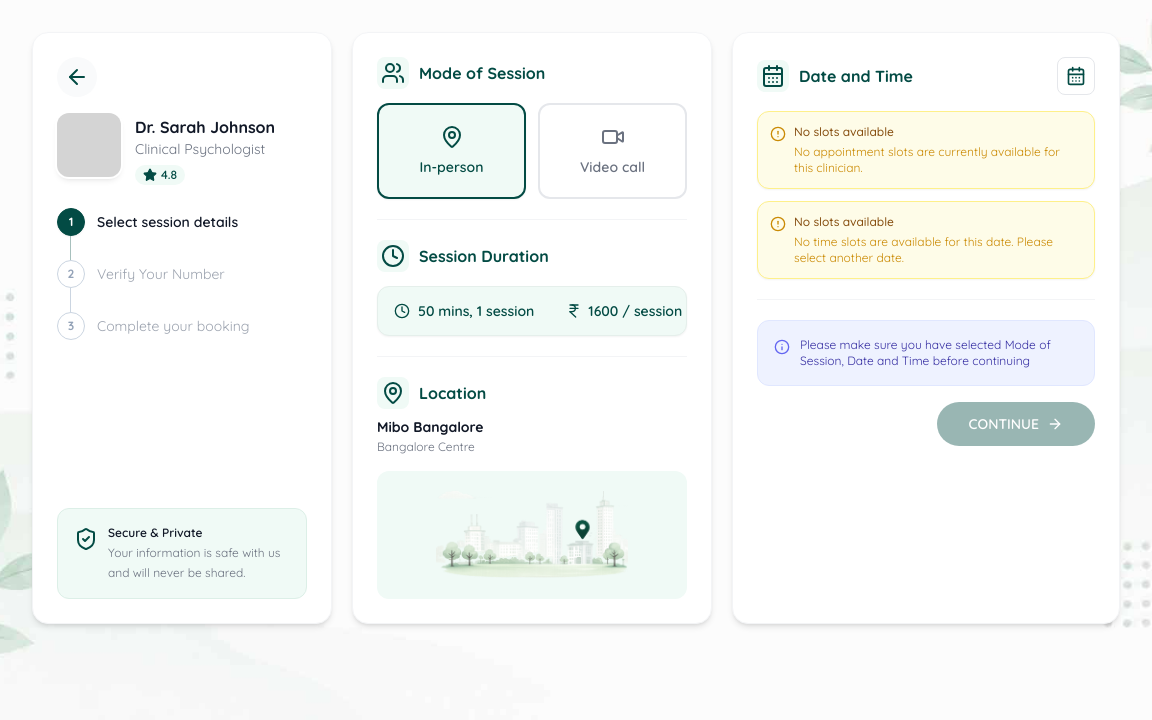
Test: Preservation Property Tests: Non-Calendar Date Selection Behavior › PROPERTY 2.4: Preservation - Closing modal without selecting preserves previously selected date
Expected: the text "Dr. Sarah Johnson" is shown, [135, 115, 275, 139]
// **STEP 1**: Open the calendar modal
Click the button named "Open calendar".
click(1076, 76)  # box [1057, 57, 1095, 95]
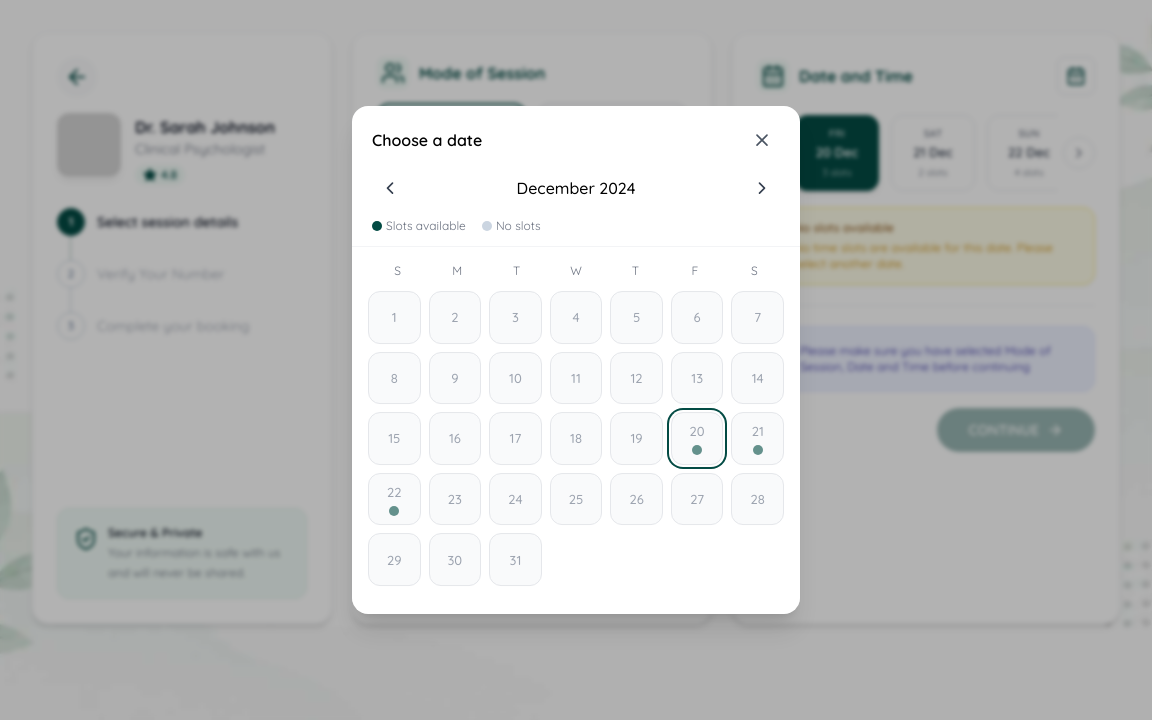
Expected: the text "Choose a date" is shown, [372, 128, 482, 152]
Click the button without text in the row of "Choose a date".
click(762, 140)  # box [744, 122, 780, 158]
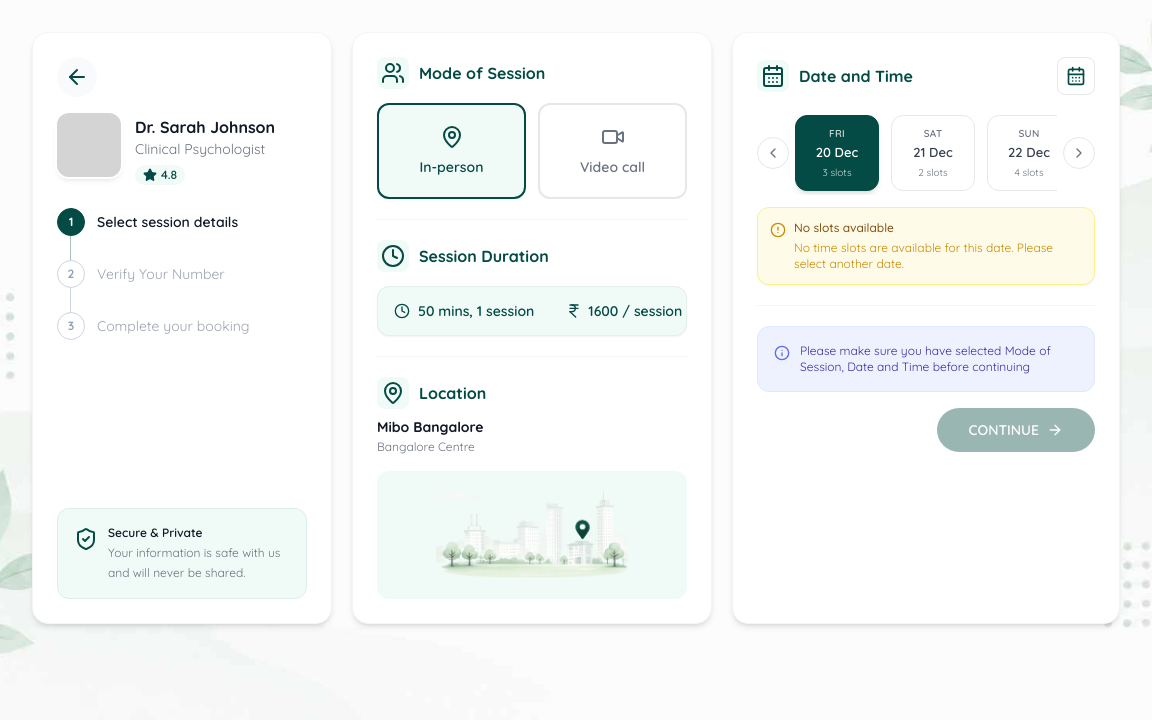
Expected: the text "Choose a date" is gone
